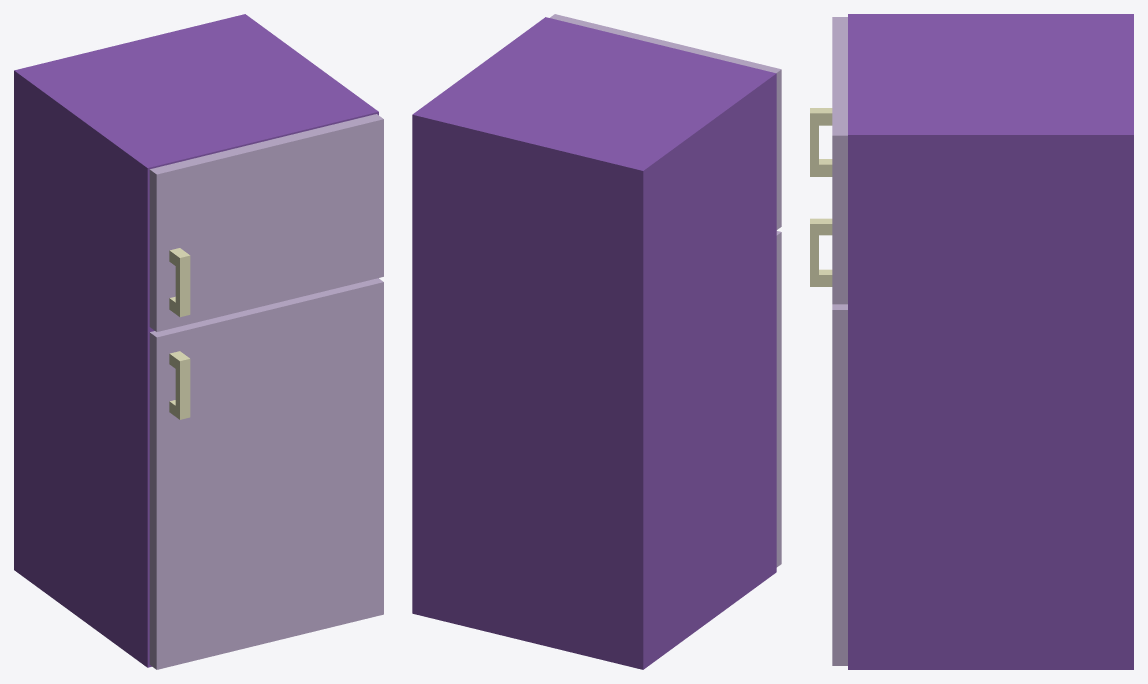
File: Fridge.fbx
The picture shows the model from 3 angles, left to right: view 1: azimuth 30°, elevation 25°; view 2: azimuth 150°, elevation 25°; view 3: azimuth 270°, elevation 25°; orthographic projection. The views are drawn at different scales.
Parts seen in each view (by area): view 1: pCube5; view 2: pCube5; view 3: pCube5.
Boxes of the visible parts, x1,y1,x2,y2 form: pCube5: (14,14,383,669); pCube5: (412,14,781,669); pCube5: (810,14,1133,669).
Bounding box in the file's own units: 13.19 × 27.22 × 14.93.
